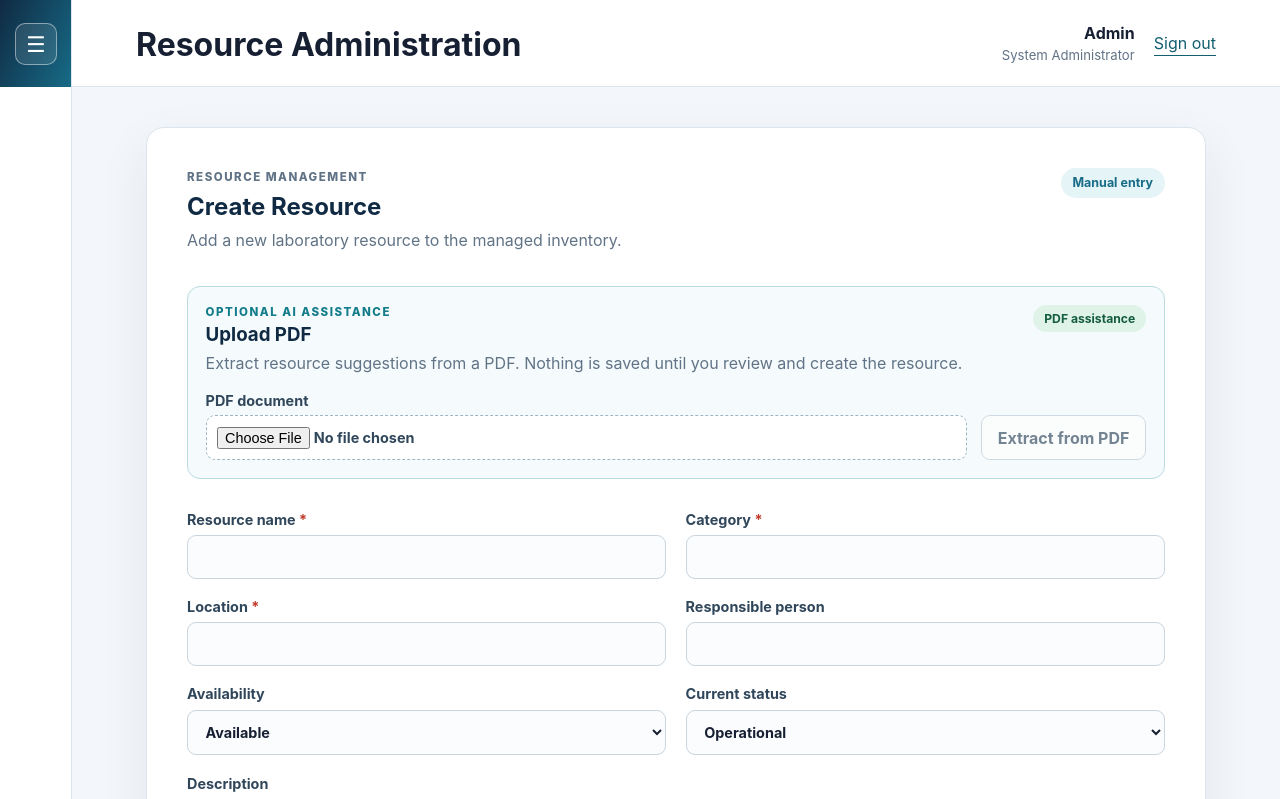
it: App authorization UI › lets an administrator open the resource archive from navigation
The width and height of the screenshot is (1280, 799).
Click the button named "open navigation". click: x=36, y=44
box: 15,23 -> 57,65
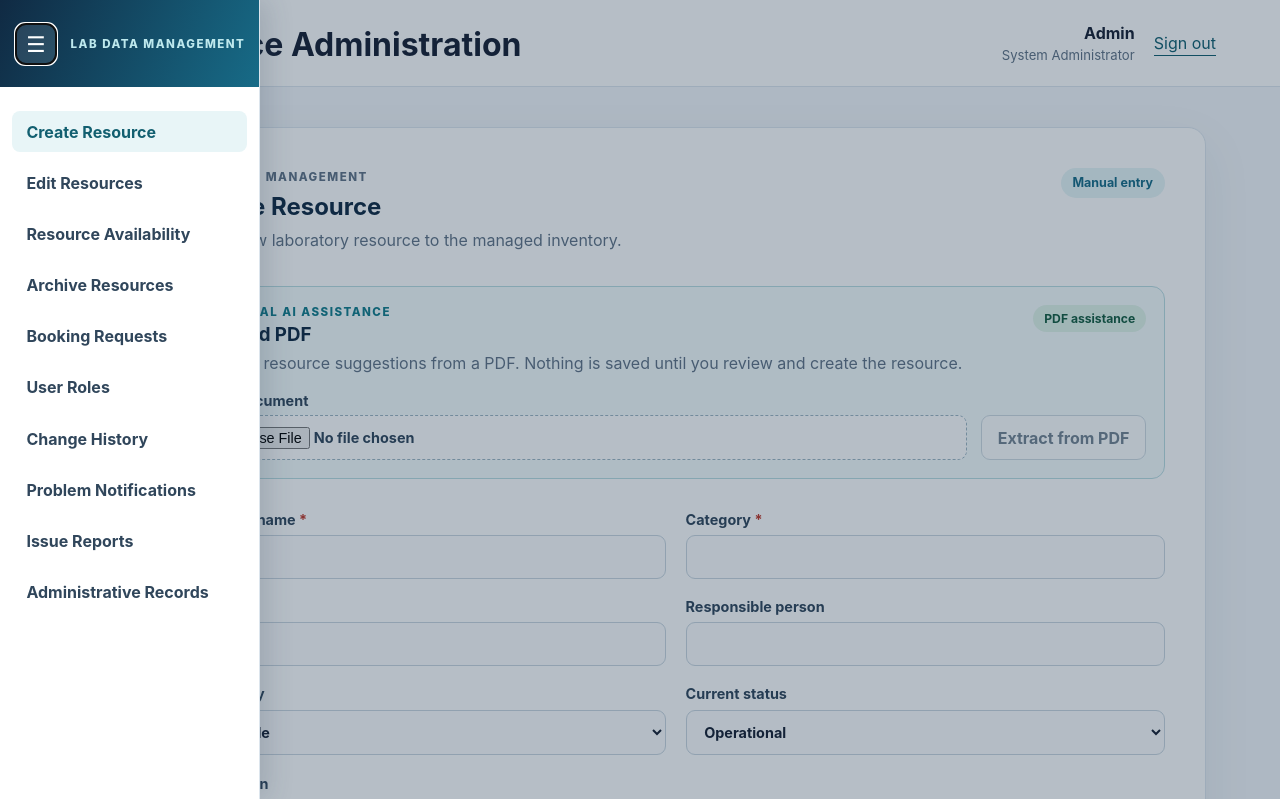
Click the button "Archive Resources". click: x=130, y=285
box: 12,265 -> 247,306
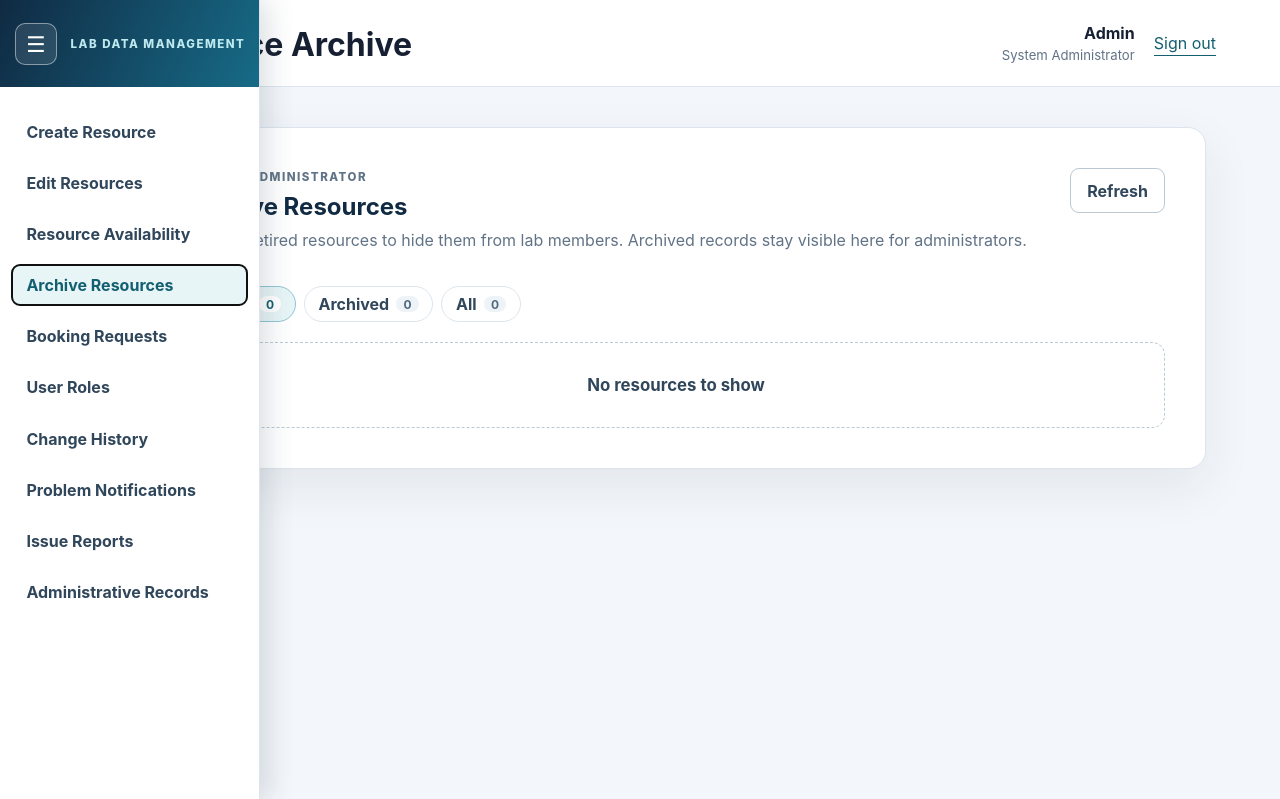
Result: the heading "Resource Archive" is shown at 136,25 -> 412,64
Result: the heading "Archive Resources" is shown at 187,192 -> 408,221
